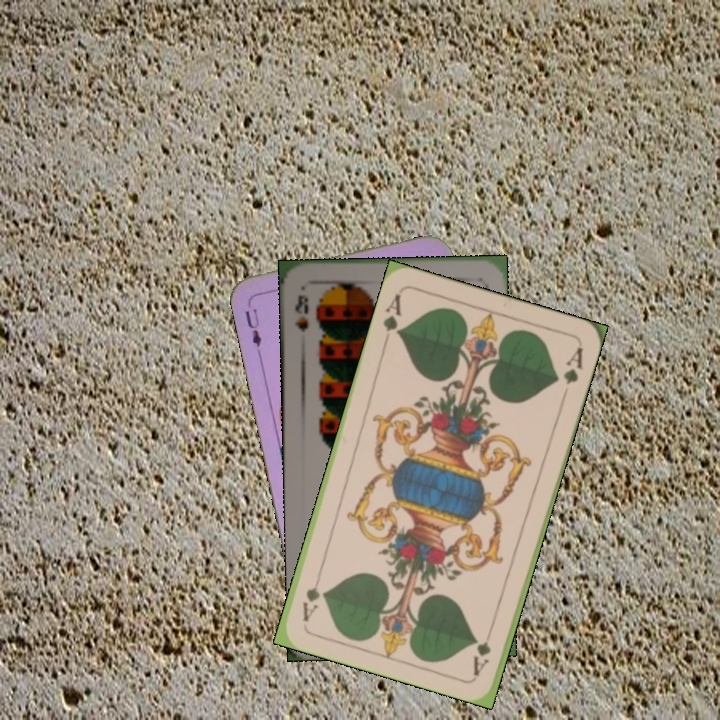EU: (241, 304, 264, 351)
GA: (469, 620, 497, 678), (378, 290, 404, 347)
S8: (290, 291, 311, 334)
